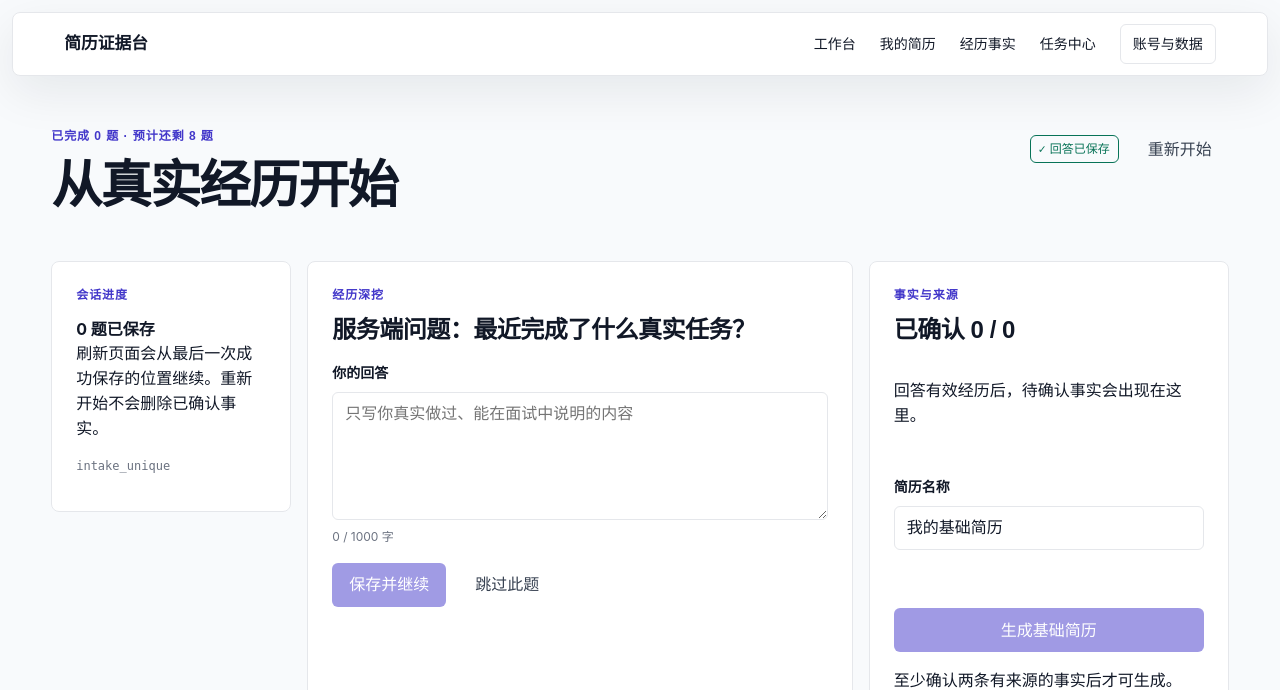
it: V2 persisted intake › submits the current answer with base_version and advances only from the response
Step 1. Type "组织了一次校园活动" into the text box labelled "你的回答" → (580,456), box [332,392,828,520]
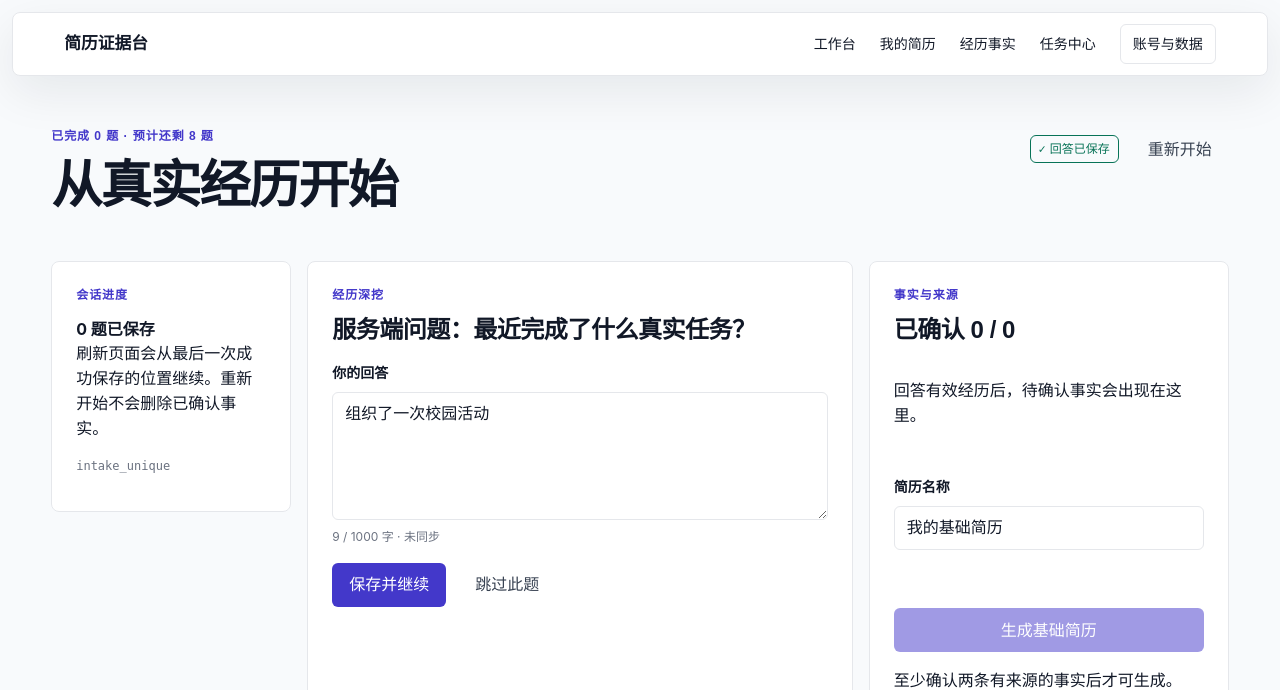
Step 2. Click the button "保存并继续" → (389,585), box [332,563,446,607]
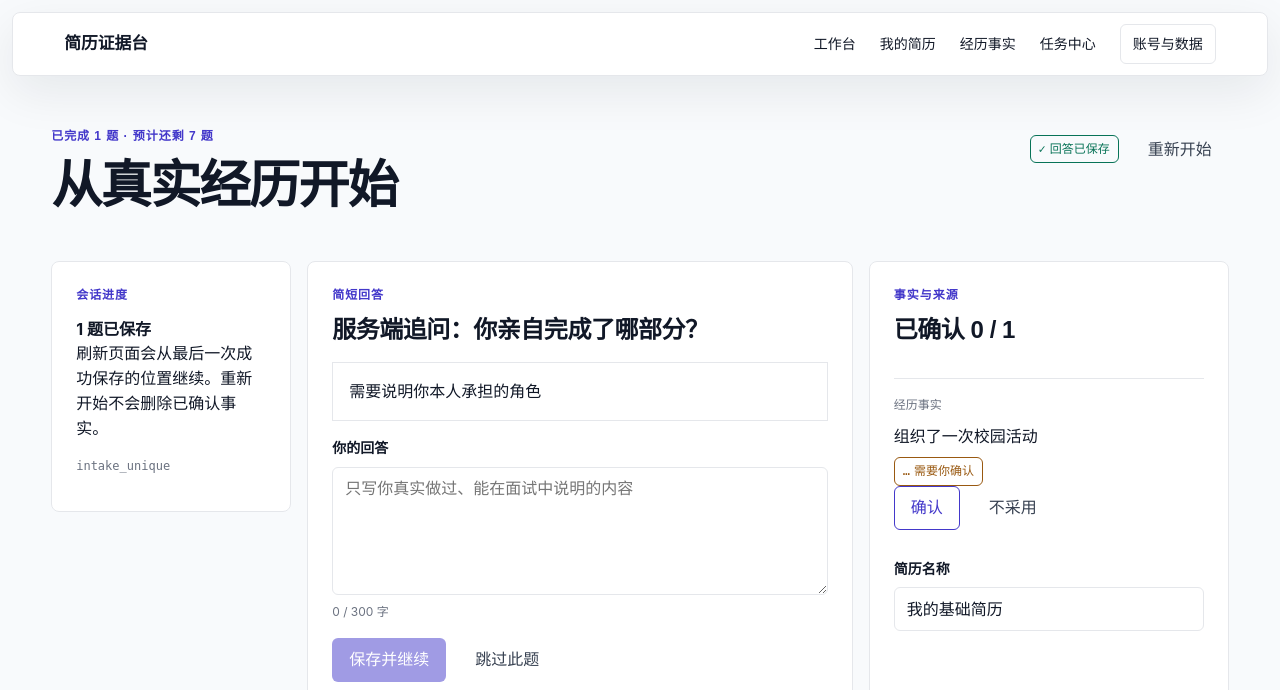
Expected: the heading "服务端追问：你亲自完成了哪部分？" is shown, [332,316,708,343]
Expected: the text "组织了一次校园活动" is shown, [894,426,1038,446]
